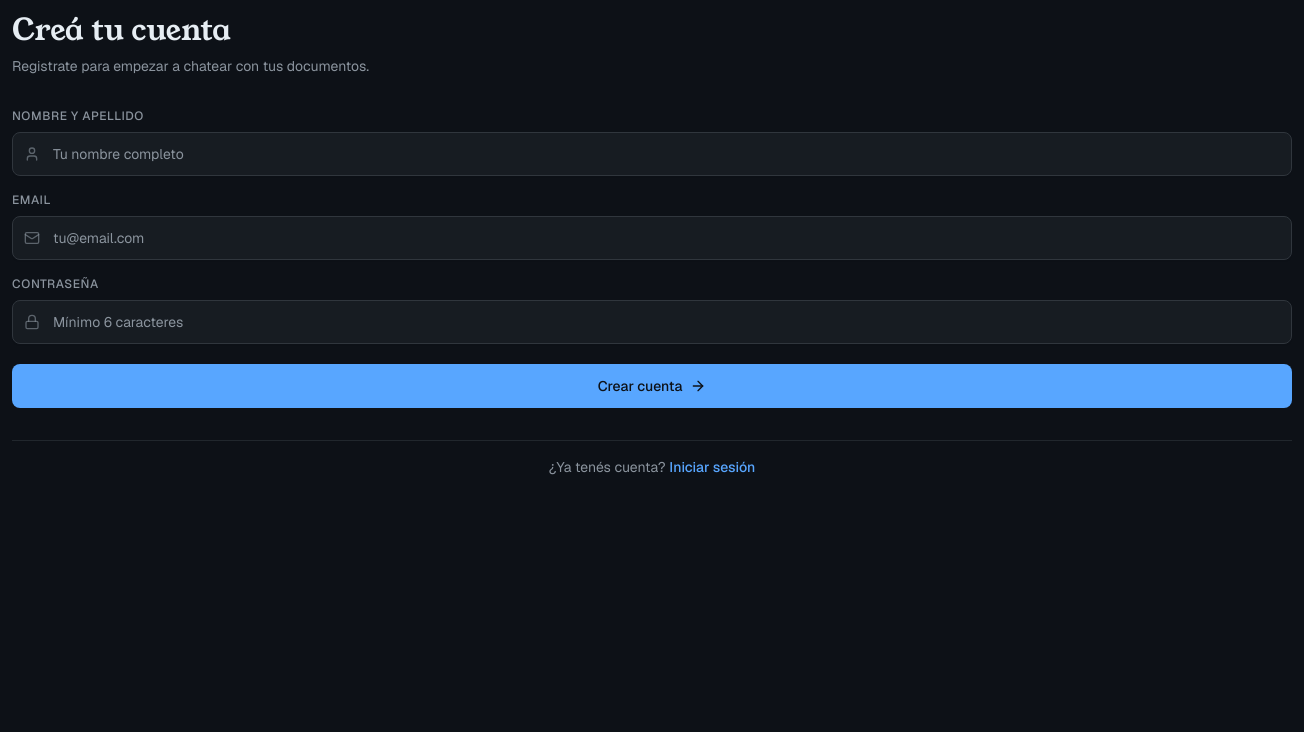
Test case: RegisterPage › muestra error si el registro falla
The width and height of the screenshot is (1304, 732).
Type "Juan Pérez" into the field labelled "Nombre y Apellido" at [652, 154], box [12, 132, 1292, 176]
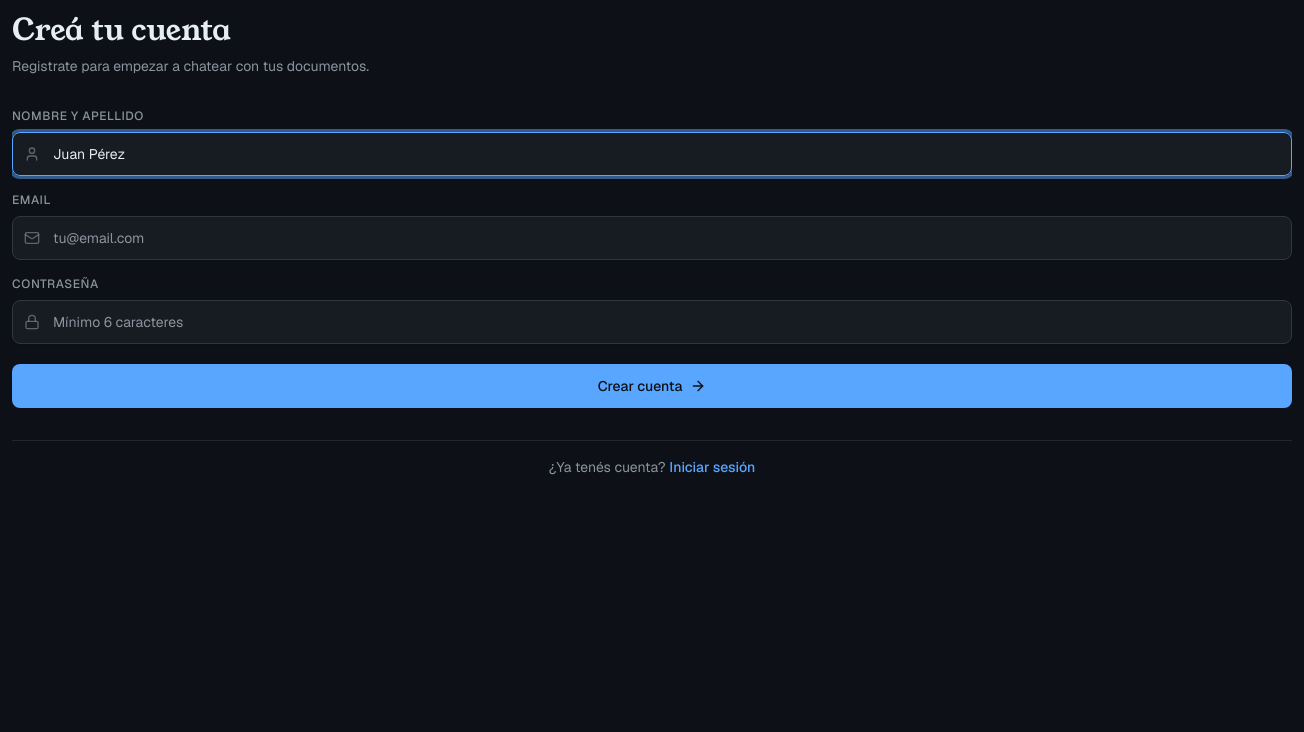
Type "existente@test.com" into the field labelled "Email" at [652, 238], box [12, 216, 1292, 260]
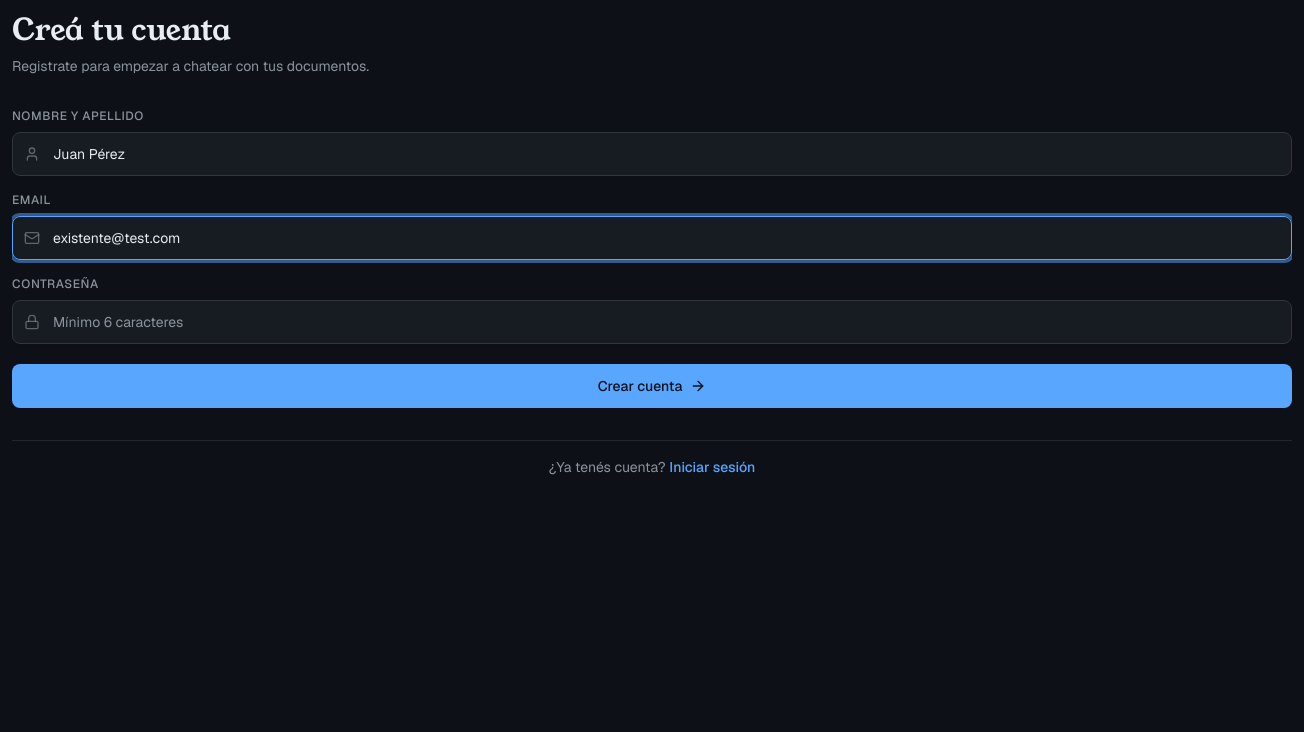
Type "password123" into the password field labelled "Contraseña" at [652, 322], box [12, 300, 1292, 344]
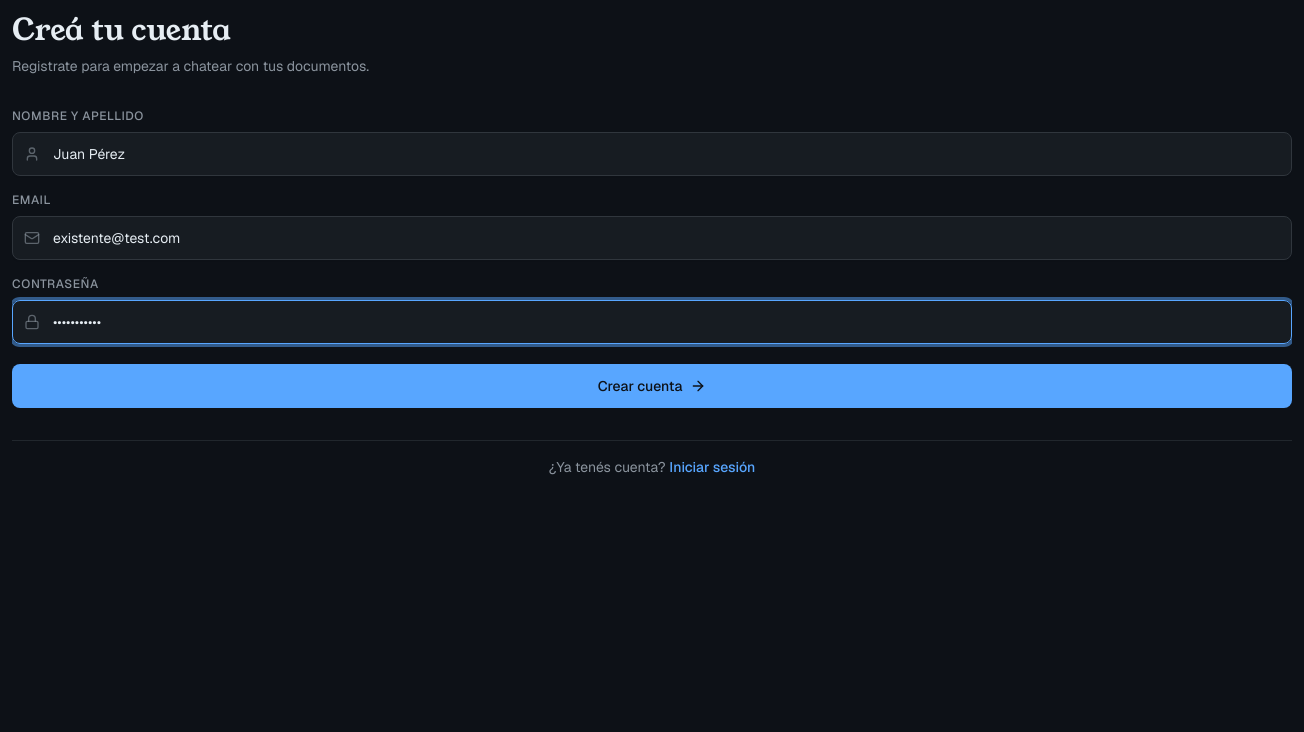
Click the button "Crear cuenta" at [652, 386], box [12, 364, 1292, 408]
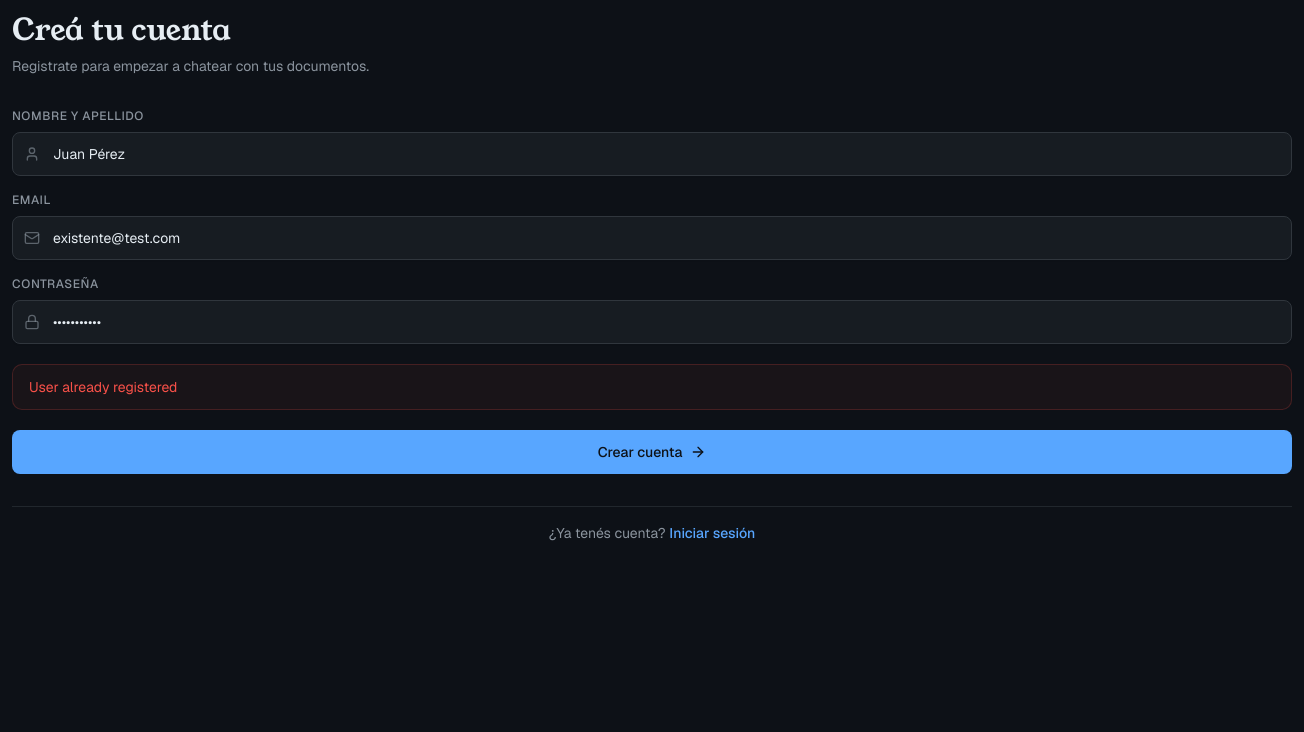
Expected: the text "User already registered" is shown, [29, 378, 178, 396]
